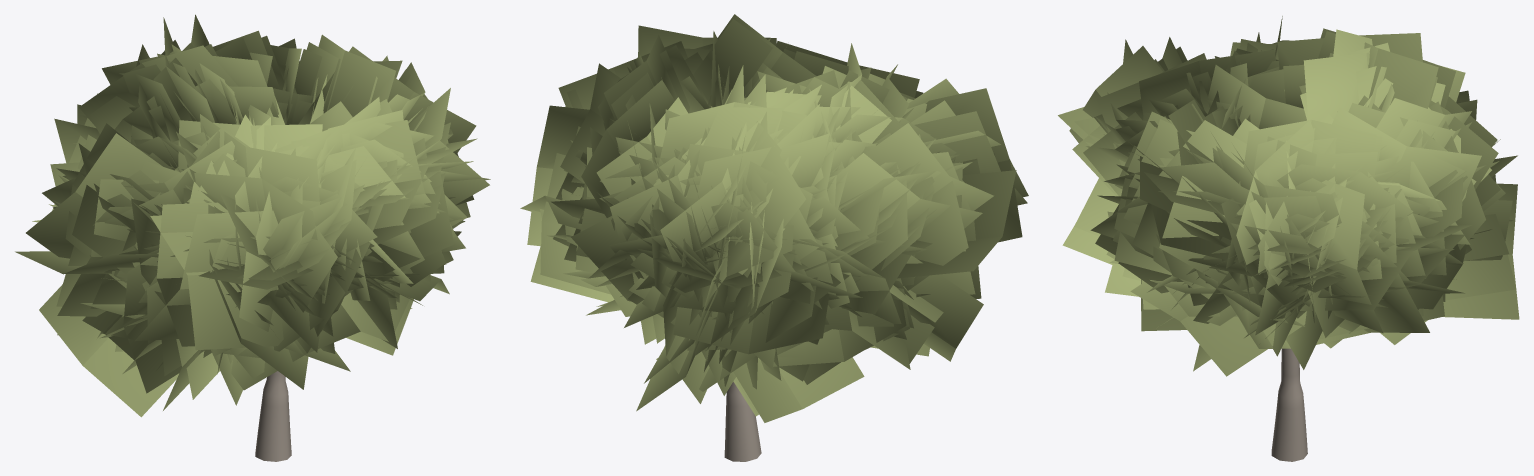
Rendered from StreetTree_A.fbx.
The picture shows the model from 3 angles, left to right: view 1: azimuth 30°, elevation 25°; view 2: azimuth 150°, elevation 25°; view 3: azimuth 270°, elevation 25°; orthographic projection.
Visible parts, largest first — view 1: StreetTree_A; view 2: StreetTree_A; view 3: StreetTree_A.
Part boxes in pixels (left/top/right/bottom): StreetTree_A: left=15, top=14, right=490, bottom=461; StreetTree_A: left=520, top=14, right=1028, bottom=461; StreetTree_A: left=1058, top=16, right=1519, bottom=461.
Bounding box in the file's own units: 10.25 × 9.31 × 9.68.
